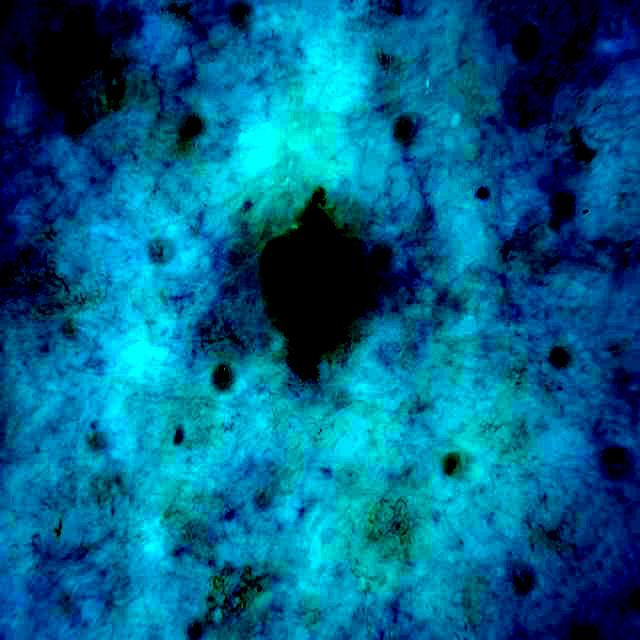BKL: (266, 191, 355, 348)
